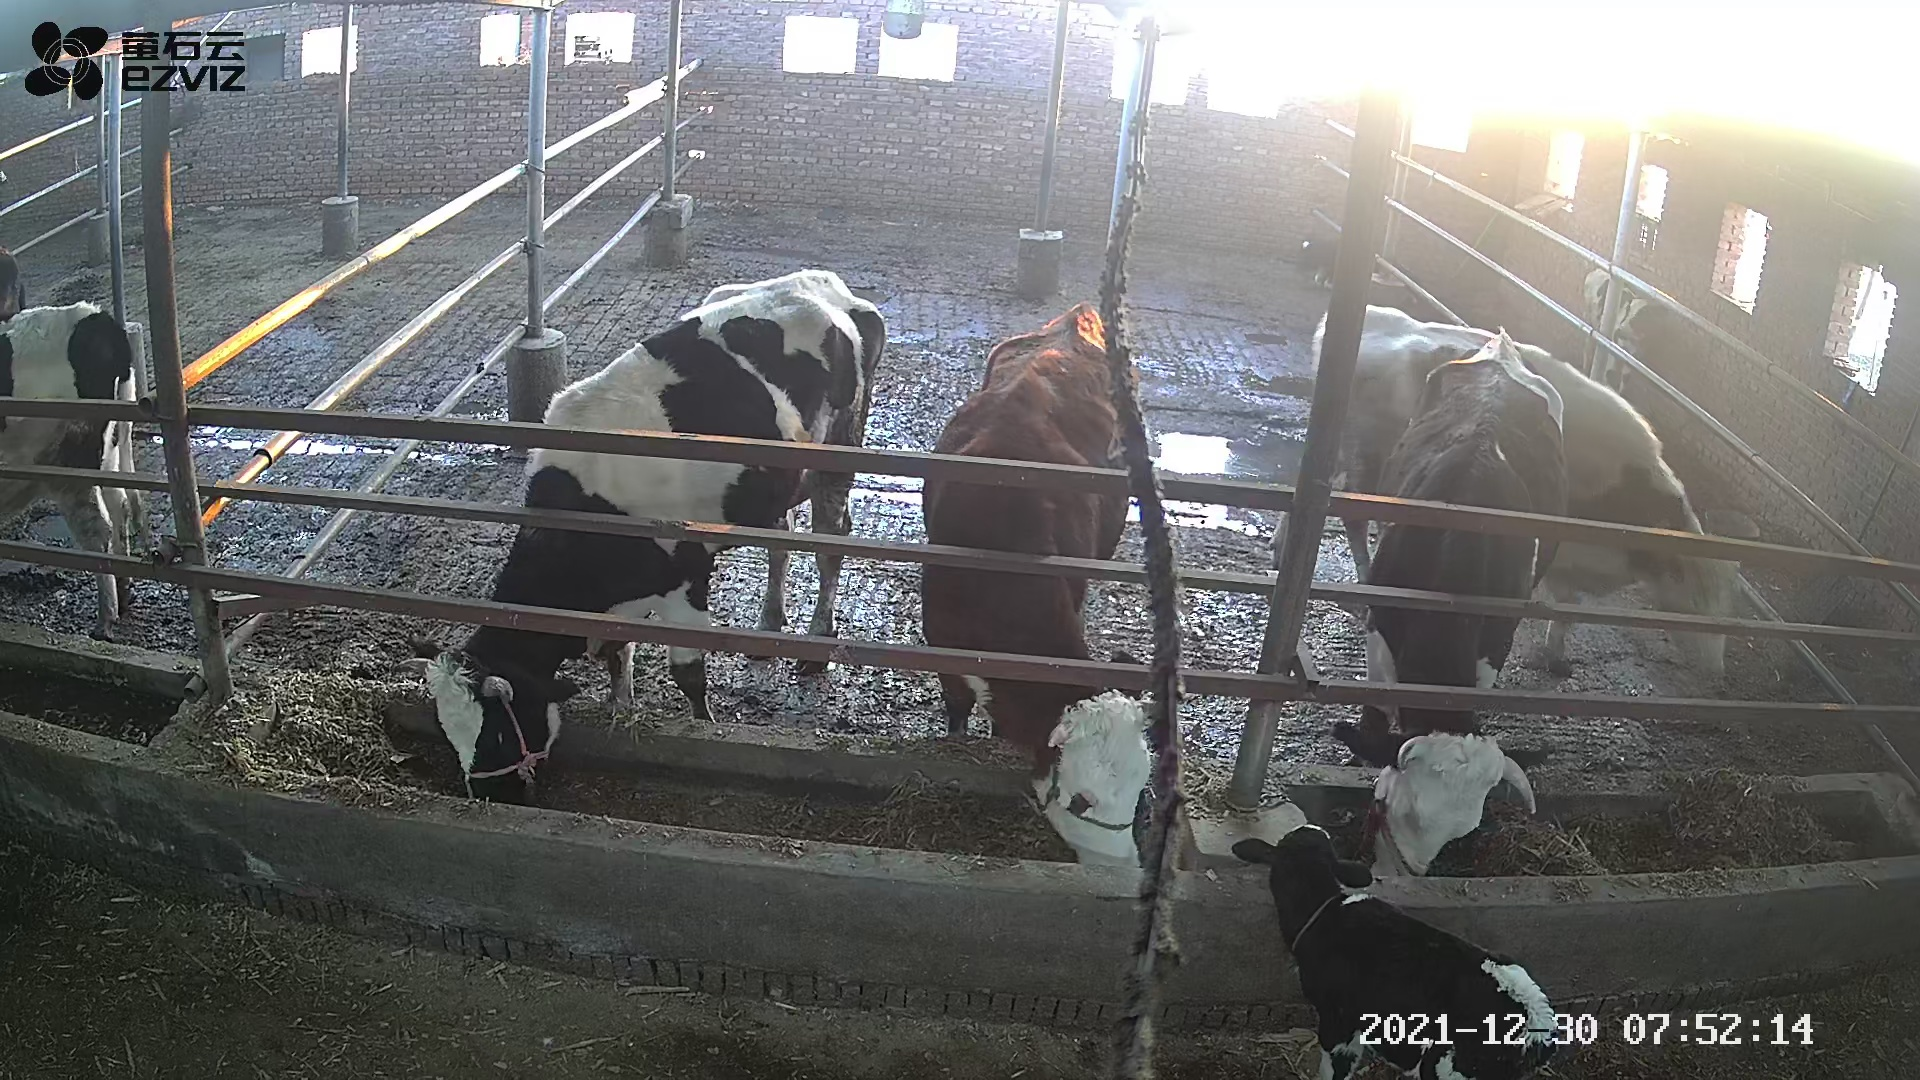cow: (392, 268, 887, 810), (1309, 302, 1741, 680), (920, 301, 1153, 870), (1331, 323, 1568, 878)
